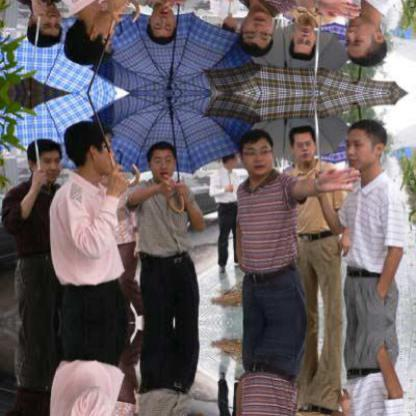head: (65, 120, 110, 182), (65, 2, 110, 64), (342, 115, 388, 174), (342, 11, 388, 70), (20, 132, 63, 184), (20, 0, 63, 52), (236, 122, 275, 176), (236, 8, 275, 62), (142, 138, 179, 182), (142, 3, 179, 47), (286, 119, 317, 166), (286, 19, 317, 66)
